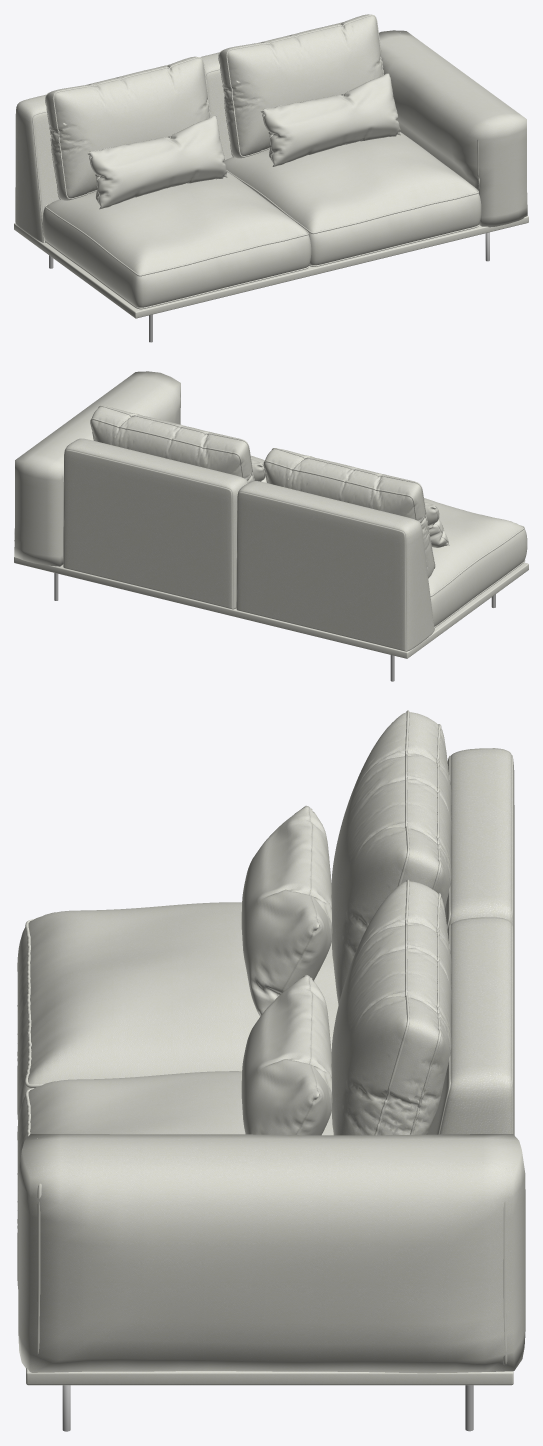
The model's file is single_arm_left_2.glb.
The picture shows the model from 3 angles, top to bottom: view 1: azimuth 30°, elevation 25°; view 2: azimuth 150°, elevation 25°; view 3: azimuth 270°, elevation 25°; orthographic projection. The views are drawn at different scales.
Visible parts, largest first — view 1: Seating cushion .006, Seating cushion .001, Armrest.001, pillow.001, pillow.018, pillow.002, pillow.017, pillow.016, prop.001, pillow.003; view 2: pillow.016, pillow.003, Armrest.001, Seating cushion .006, pillow.018, pillow.001, prop.001, pillow.017; view 3: Armrest.001, Seating cushion .006, pillow.001, pillow.018, pillow.003, pillow.017, Seating cushion .001, pillow.002, pillow.016, prop.001, Leg.004.
Boxes of the visible parts, x1=… form: Seating cushion .006: x1=42, y1=172, x2=311, y2=309; Seating cushion .001: x1=224, y1=132, x2=481, y2=266; Armrest.001: x1=379, y1=30, x2=527, y2=227; pillow.001: x1=218, y1=14, x2=383, y2=158; pillow.018: x1=45, y1=56, x2=210, y2=200; pillow.002: x1=260, y1=73, x2=400, y2=166; pillow.017: x1=87, y1=115, x2=227, y2=209; pillow.016: x1=15, y1=64, x2=168, y2=242; prop.001: x1=14, y1=216, x2=528, y2=318; pillow.003: x1=200, y1=22, x2=341, y2=160; pillow.016: x1=236, y1=481, x2=434, y2=651; pillow.003: x1=63, y1=438, x2=247, y2=609; Armrest.001: x1=14, y1=371, x2=180, y2=566; Seating cushion .006: x1=424, y1=498, x2=527, y2=628; pillow.018: x1=263, y1=448, x2=435, y2=578; pillow.001: x1=90, y1=405, x2=254, y2=482; prop.001: x1=14, y1=557, x2=528, y2=658; pillow.017: x1=424, y1=502, x2=449, y2=547; Armrest.001: x1=18, y1=1134, x2=525, y2=1373; Seating cushion .006: x1=17, y1=902, x2=338, y2=1121; pillow.001: x1=331, y1=879, x2=451, y2=1135; pillow.018: x1=331, y1=710, x2=451, y2=1005; pillow.003: x1=427, y1=917, x2=514, y2=1134; pillow.017: x1=241, y1=805, x2=332, y2=1016; Seating cushion .001: x1=17, y1=1071, x2=333, y2=1288; pillow.002: x1=241, y1=975, x2=332, y2=1135; pillow.016: x1=445, y1=748, x2=514, y2=973; prop.001: x1=26, y1=1368, x2=513, y2=1385; Leg.004: x1=62, y1=1385, x2=473, y2=1431.
Bounding box in the file's own units: 1.72 × 0.7751 × 0.9352.
3 materials, 2 textured.
